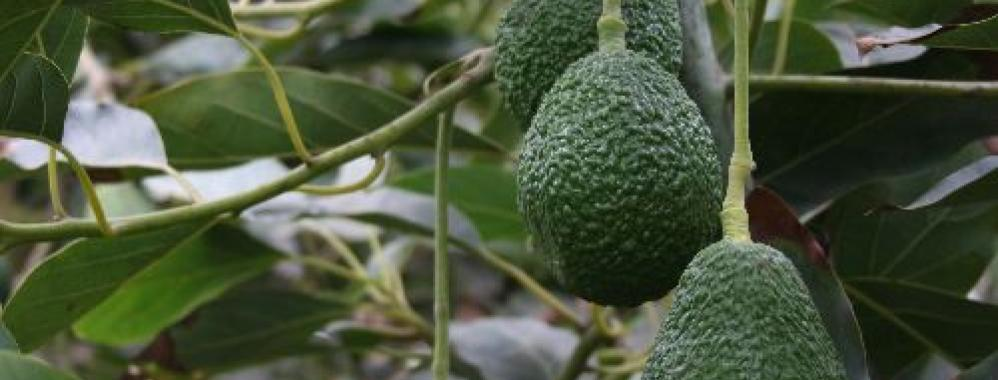unfit_avocado: (524, 44, 730, 299), (605, 237, 876, 376)
